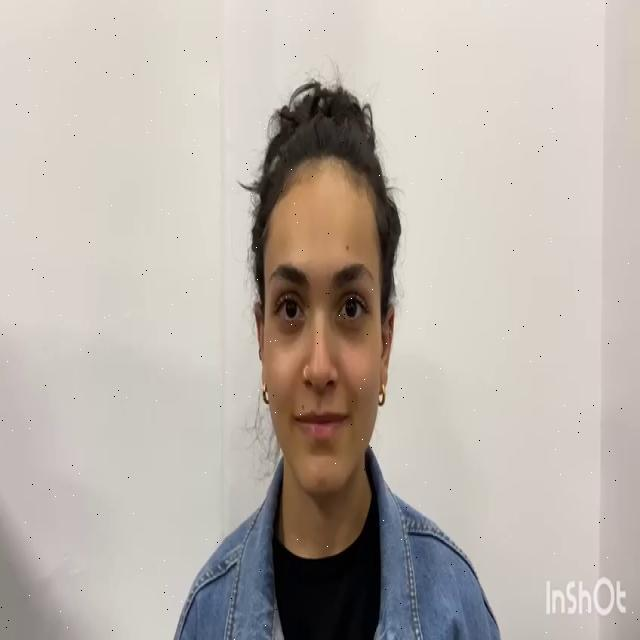happy: (256, 165, 388, 500)
